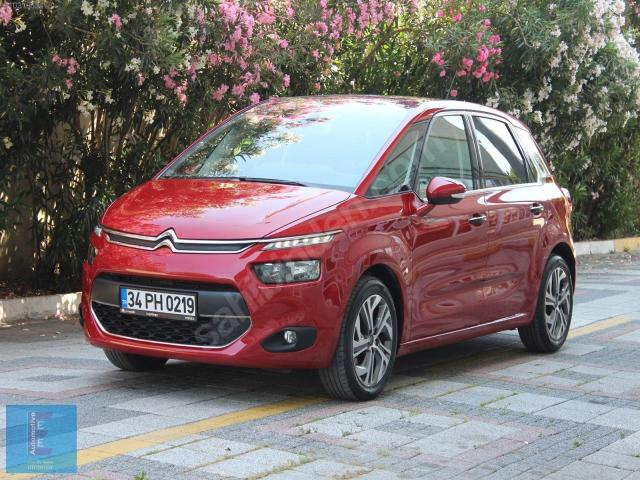plaka: (121, 288, 195, 319)
